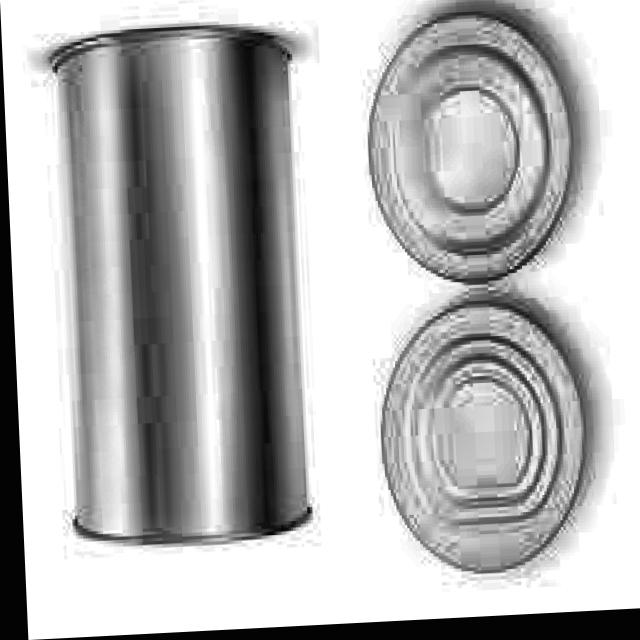can: (31, 7, 320, 558), (361, 293, 597, 594), (359, 12, 581, 292)
